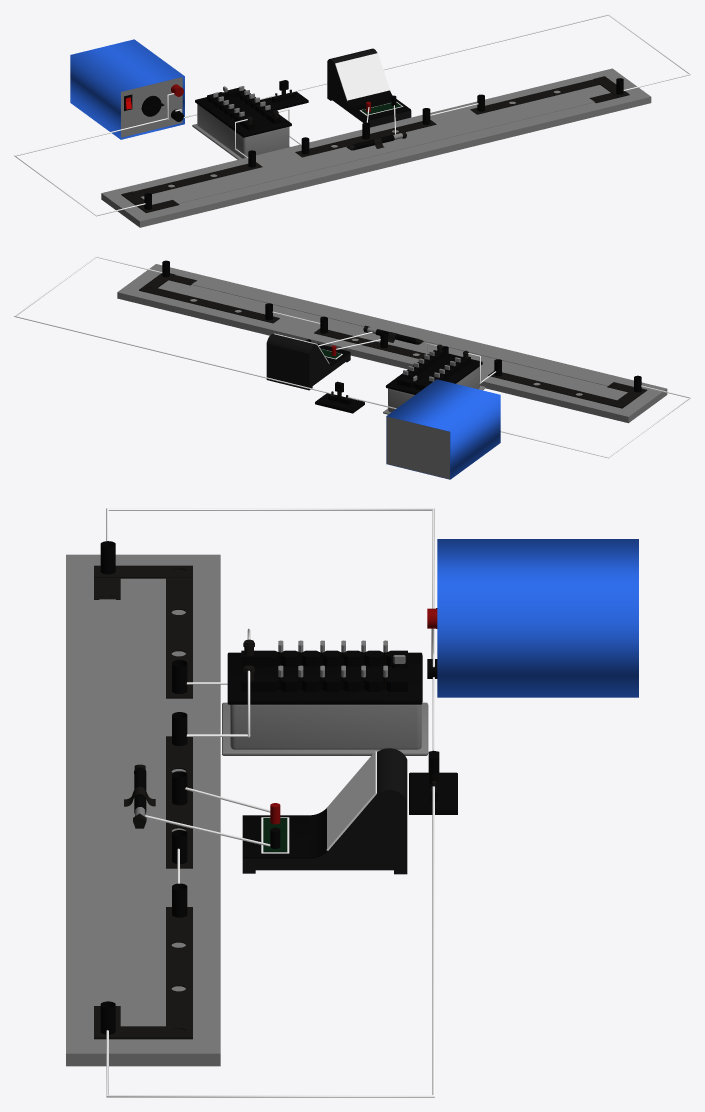
The model's file is Experimnet 3.FBX.
The picture shows the model from 3 angles, top to bottom: view 1: azimuth 30°, elevation 25°; view 2: azimuth 150°, elevation 25°; view 3: azimuth 270°, elevation 25°; orthographic projection. The views are drawn at different scales.
Parts seen in each view (by area): view 1: Box001, Rectangle001, Box028, Box009, ChamferBox002, Line024, ChamferBox003, Line022, Box005, Box003, Box008, Line023 (+3 smaller); view 2: Box001, Rectangle001, Box028, Line022, Box009, ChamferBox003, Line029, Box005, Box003, Box008, ChamferBox002, Line026 (+1 smaller); view 3: Box001, Rectangle001, ChamferBox002, Line022, Box009, ChamferBox003, Box005, Box003, Line023, Box008, Line024, Line029 (+5 smaller).
Boxes of the visible parts, x1,y1,x2,y2 form: Box001: (101, 68, 651, 227); Rectangle001: (70, 39, 184, 139); Box028: (121, 77, 182, 137); Box009: (174, 99, 594, 203); ChamferBox002: (197, 104, 289, 158); Line024: (335, 53, 389, 101); ChamferBox003: (195, 89, 291, 137); Line022: (327, 48, 411, 127); Box005: (470, 79, 605, 114); Box003: (121, 162, 262, 199); Box008: (295, 120, 436, 157); Line023: (347, 90, 410, 120); Box001: (117, 264, 667, 423); Rectangle001: (386, 379, 500, 479); Box028: (386, 416, 449, 479); Line022: (266, 334, 350, 390); Box009: (192, 281, 611, 386); ChamferBox003: (385, 350, 482, 394); Line029: (14, 256, 331, 394); Box005: (145, 287, 279, 323); Box003: (488, 371, 628, 408); Box008: (314, 328, 427, 358); ChamferBox002: (388, 366, 479, 412); Line026: (500, 385, 690, 458); Box001: (66, 554, 220, 1066); Rectangle001: (437, 539, 638, 697); ChamferBox002: (230, 704, 421, 749); Line022: (242, 748, 407, 874); Box009: (99, 599, 115, 1005); ChamferBox003: (227, 652, 422, 704); Box005: (166, 907, 192, 1039); Box003: (166, 569, 192, 698); Line023: (242, 808, 327, 858); Box008: (166, 736, 192, 868); Line024: (326, 751, 376, 850); Line029: (106, 786, 434, 1097).
Size of the model in its own units: 854 by 68.68 by 356.
